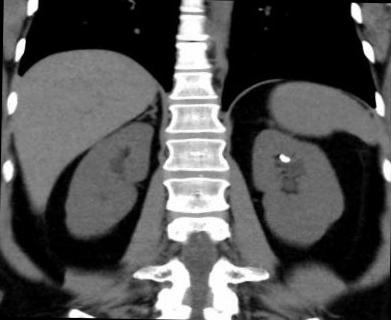Tas_Var: (278, 154, 290, 164)
